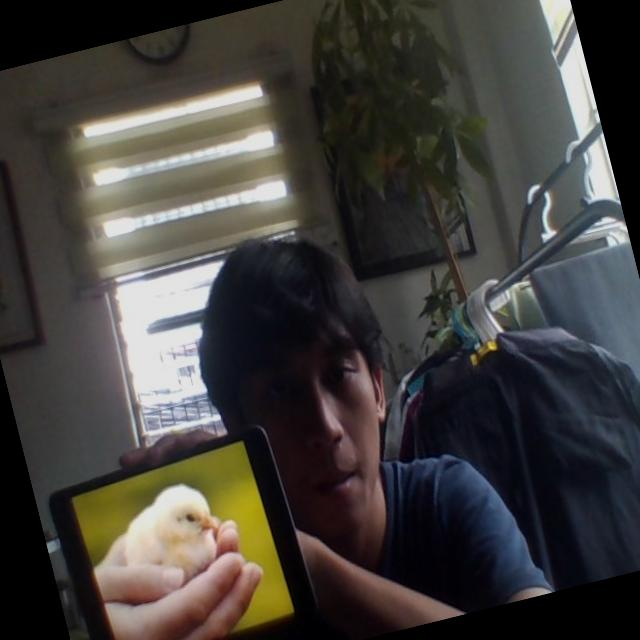Healthy: (109, 477, 232, 596)
